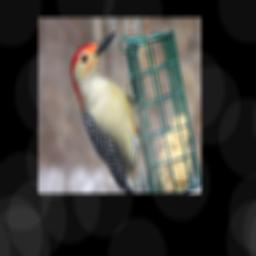Woodpecker: (71, 31, 149, 193)
